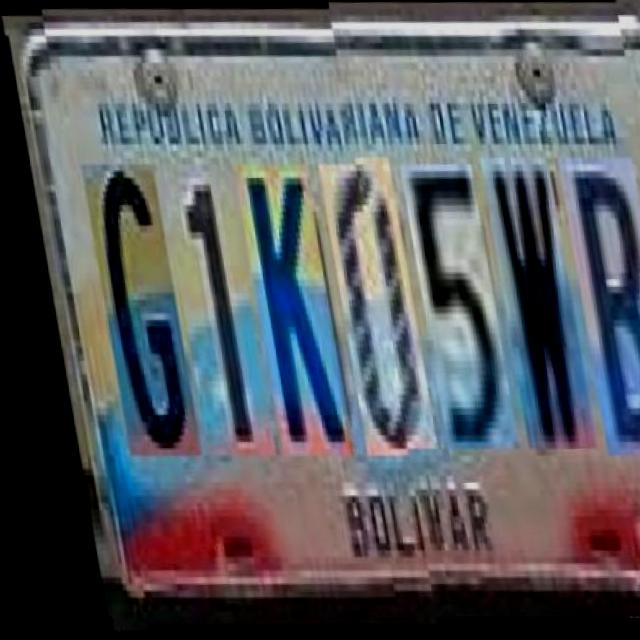0: (311, 155, 421, 452)
1: (152, 156, 259, 451)
5: (393, 163, 503, 452)
b: (551, 154, 640, 459)
g: (74, 155, 185, 452)
k: (227, 155, 337, 452)
w: (473, 156, 580, 451)
